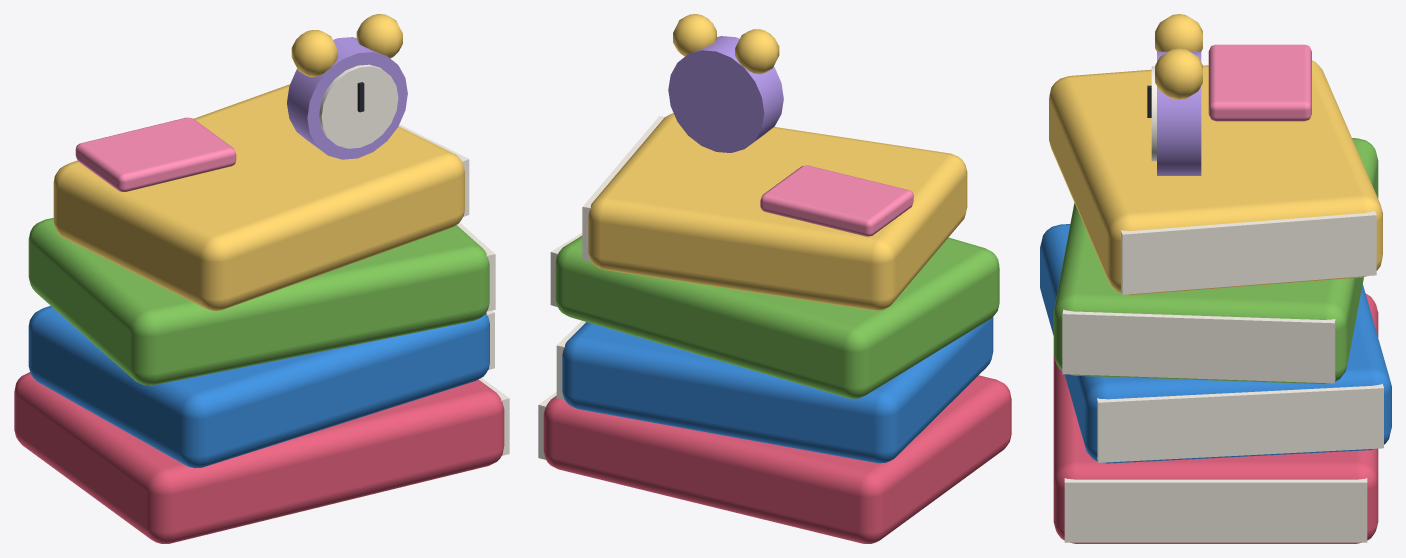
The model's file is bedside-books.glb.
The picture shows the model from 3 angles, left to right: view 1: azimuth 30°, elevation 25°; view 2: azimuth 150°, elevation 25°; view 3: azimuth 270°, elevation 25°; orthographic projection. The views are drawn at different scales.
Bounding box in the file's own units: 0.6115 × 0.69 × 0.4768.
